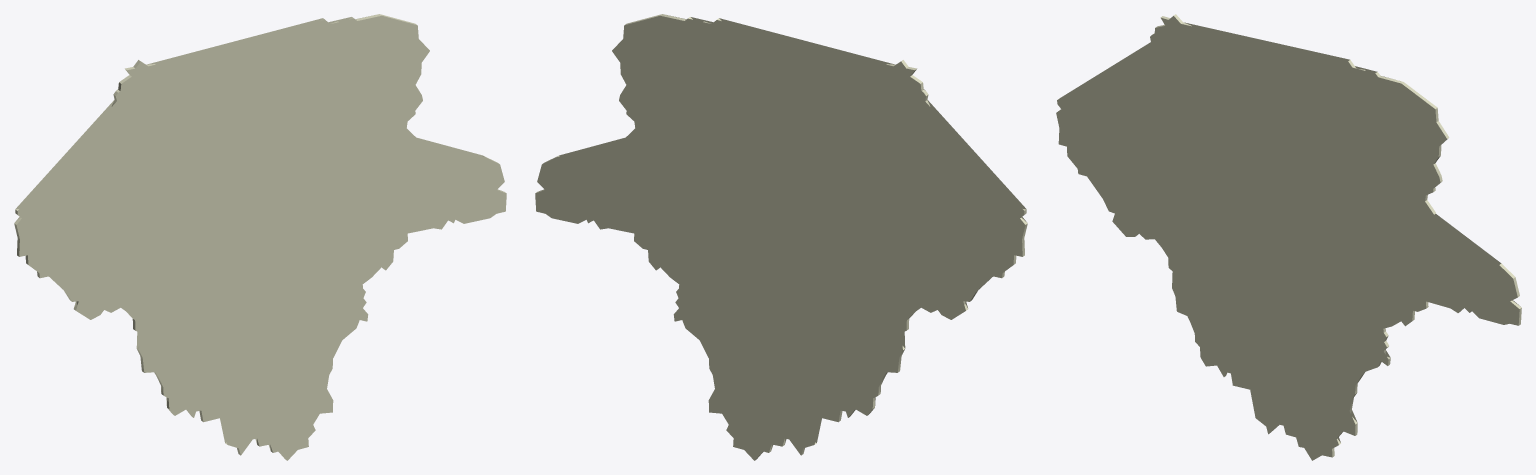
Rendered from DurangoBody.fbx.
The picture shows the model from 3 angles, left to right: view 1: azimuth 30°, elevation 25°; view 2: azimuth 150°, elevation 25°; view 3: azimuth 330°, elevation 25°; orthographic projection. The views are drawn at different scales.
Parts seen in each view (by area): view 1: contorno_del_mapa; view 2: contorno_del_mapa; view 3: contorno_del_mapa.
Part boxes in pixels (x1=…): contorno_del_mapa: x1=14, y1=14, x2=506, y2=460; contorno_del_mapa: x1=535, y1=14, x2=1027, y2=460; contorno_del_mapa: x1=1056, y1=14, x2=1521, y2=460.
Size of the model in its own units: 955 by 810 by 8.
